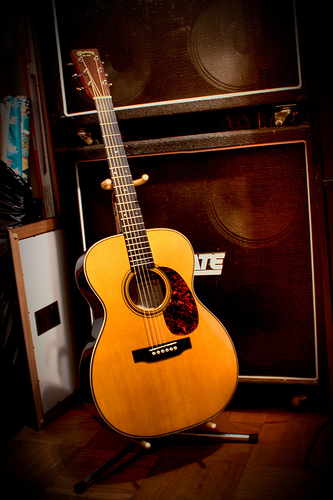guitar: (60, 47, 241, 439)
